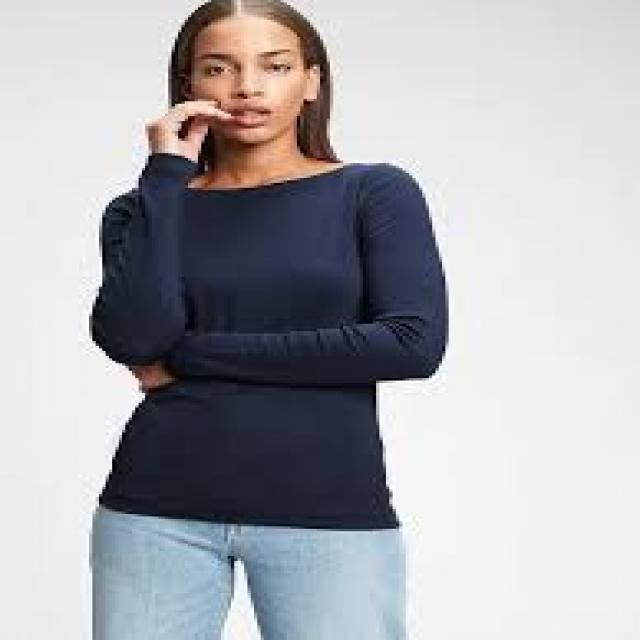plain: (79, 151, 454, 534)
